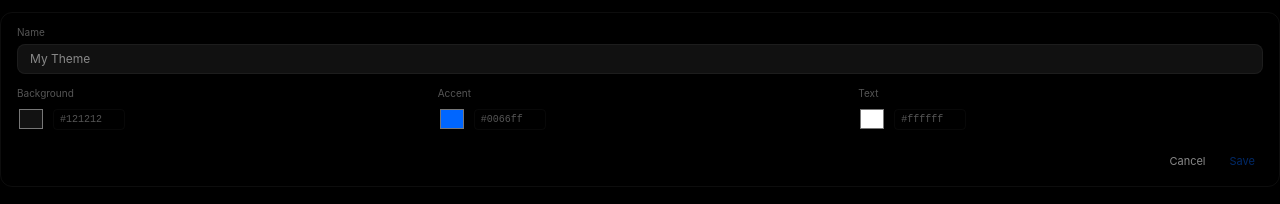
Test: CustomThemeEditor › reverts hex text to current value on blur
The width and height of the screenshot is (1280, 204).
Replace the text in the field with test id "theme-accent-picker-hex" with "#bad" at [510, 119], box [474, 108, 546, 130]
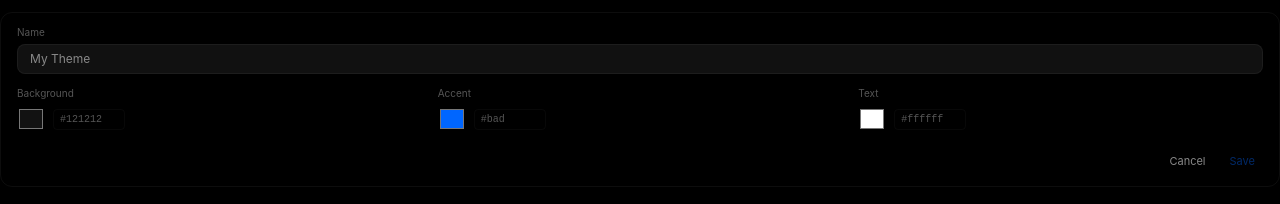
Leave the field with test id "theme-accent-picker-hex", box [474, 108, 546, 130]
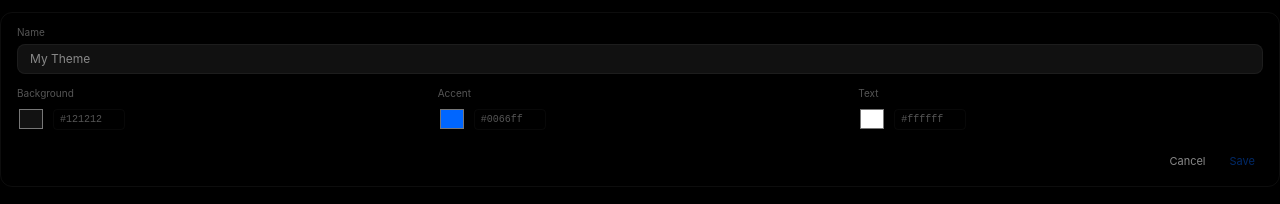
Now the field with test id "theme-accent-picker-hex" holds "#0066ff", box [474, 108, 546, 130]
